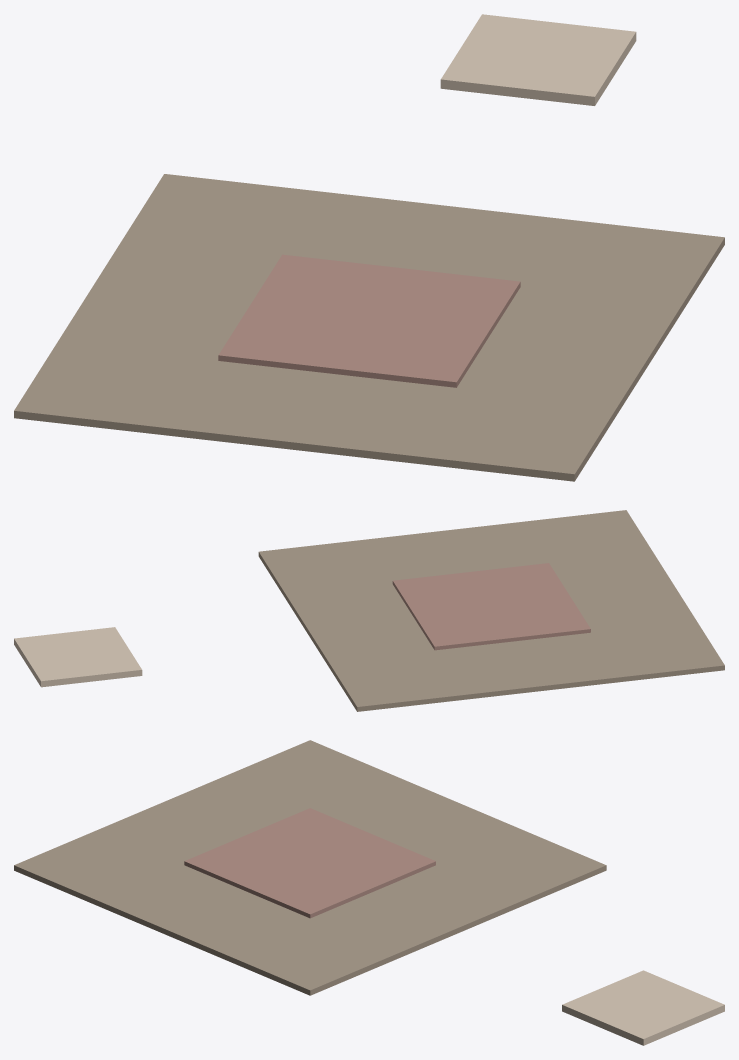
Rendered from corridor_carpet_tile.glb.
3 renders of one model, top to bottom at view 1: azimuth 30°, elevation 25°; view 2: azimuth 150°, elevation 25°; view 3: azimuth 270°, elevation 25°, orthographic. The views are drawn at different scales.
Visible parts, largest first — view 1: corridor_carpet_tile; view 2: corridor_carpet_tile; view 3: corridor_carpet_tile.
Boxes of the visible parts, x1,y1,x2,y2 form: corridor_carpet_tile: (14, 14, 724, 481); corridor_carpet_tile: (14, 510, 724, 711); corridor_carpet_tile: (14, 740, 724, 1045).
Size of the model in its own units: 0.48 by 0.007 by 0.48.
